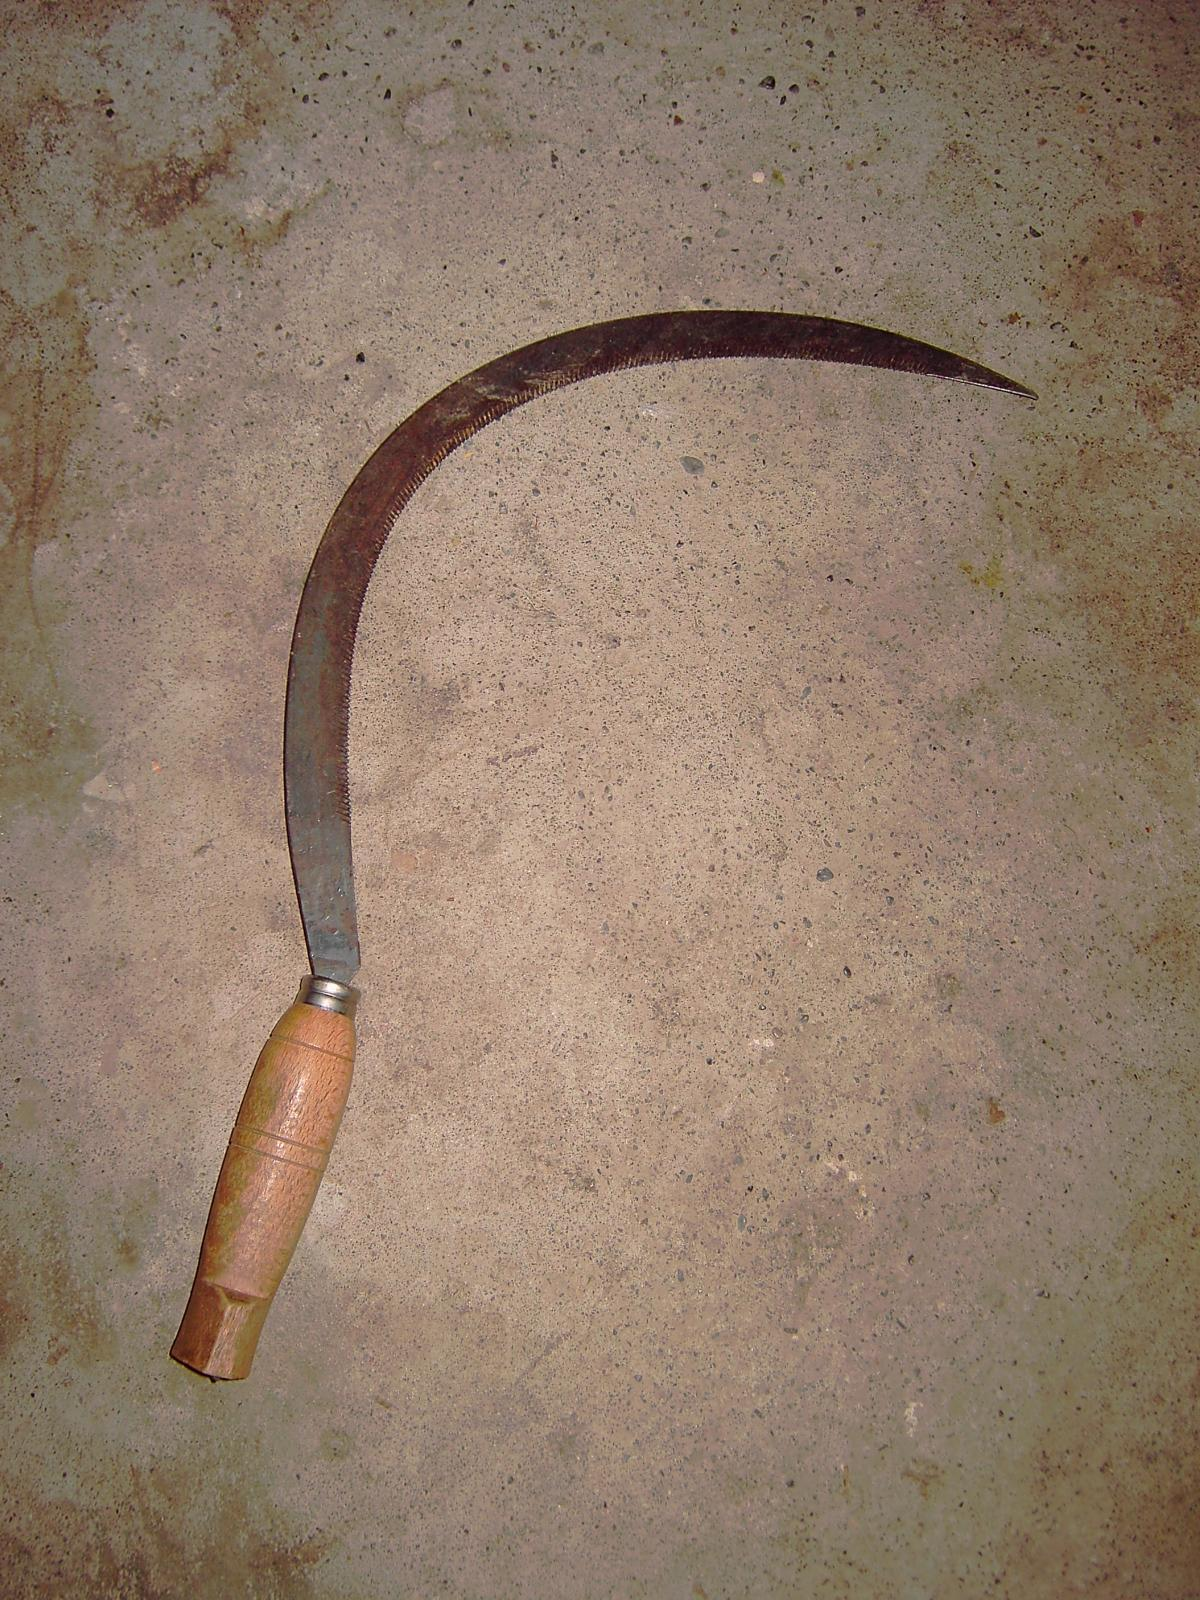foice: (170, 311, 1034, 1380)
